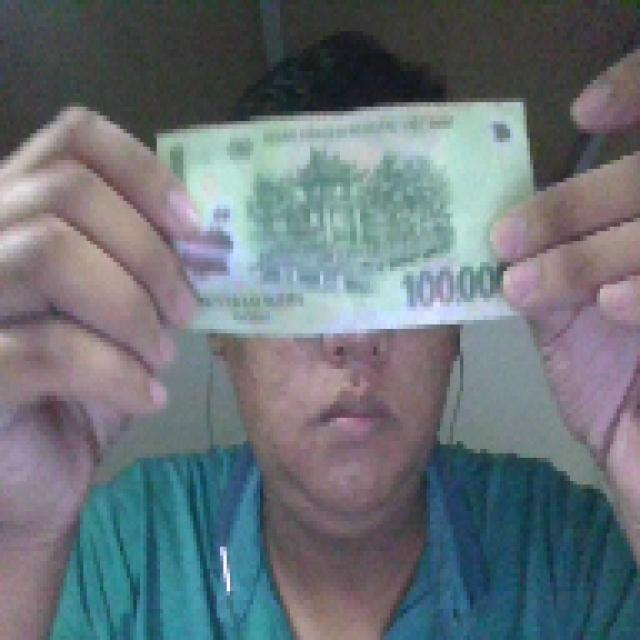100 000 VND: (147, 89, 540, 338)
